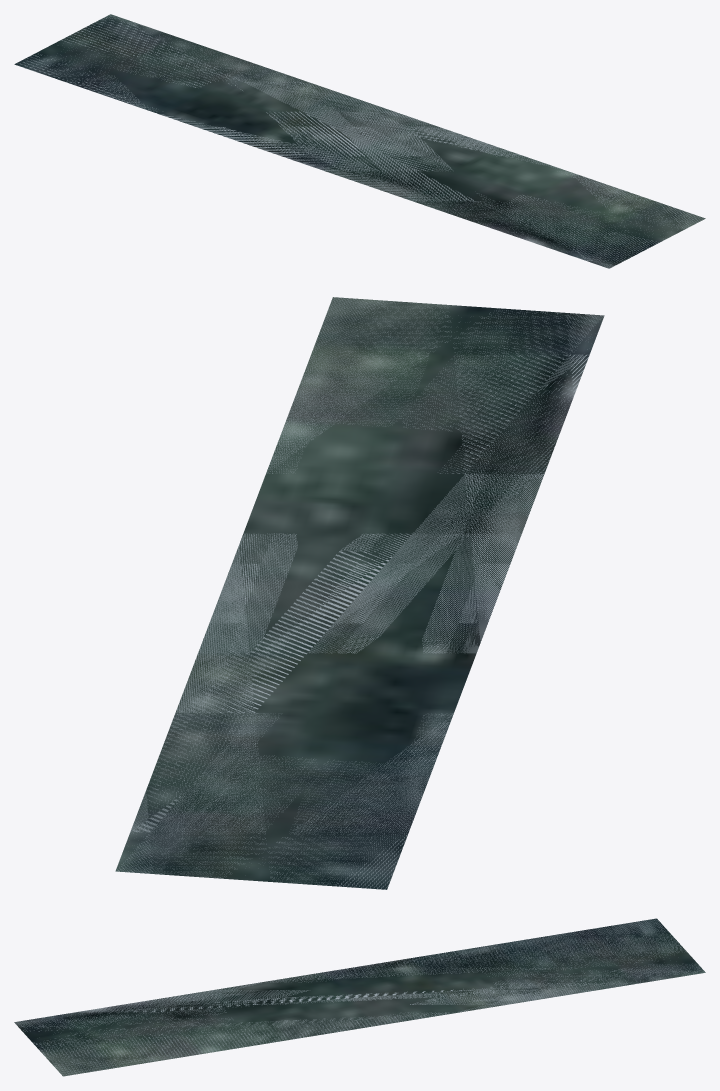
Rendered from 西庸城堡347.dae.
3 views of the same model, one above another, from view 1: azimuth 30°, elevation 25°; view 2: azimuth 150°, elevation 25°; view 3: azimuth 270°, elevation 25° (orthographic). The views are drawn at different scales.
Parts seen in each view (by area): view 1: SketchUp; view 2: SketchUp; view 3: SketchUp.
Boxes of the visible parts, bbox=[...] form: SketchUp: bbox=[14, 14, 705, 268]; SketchUp: bbox=[115, 297, 604, 889]; SketchUp: bbox=[14, 918, 705, 1076].
Size of the model in its own units: 161 by 297 by 0.
